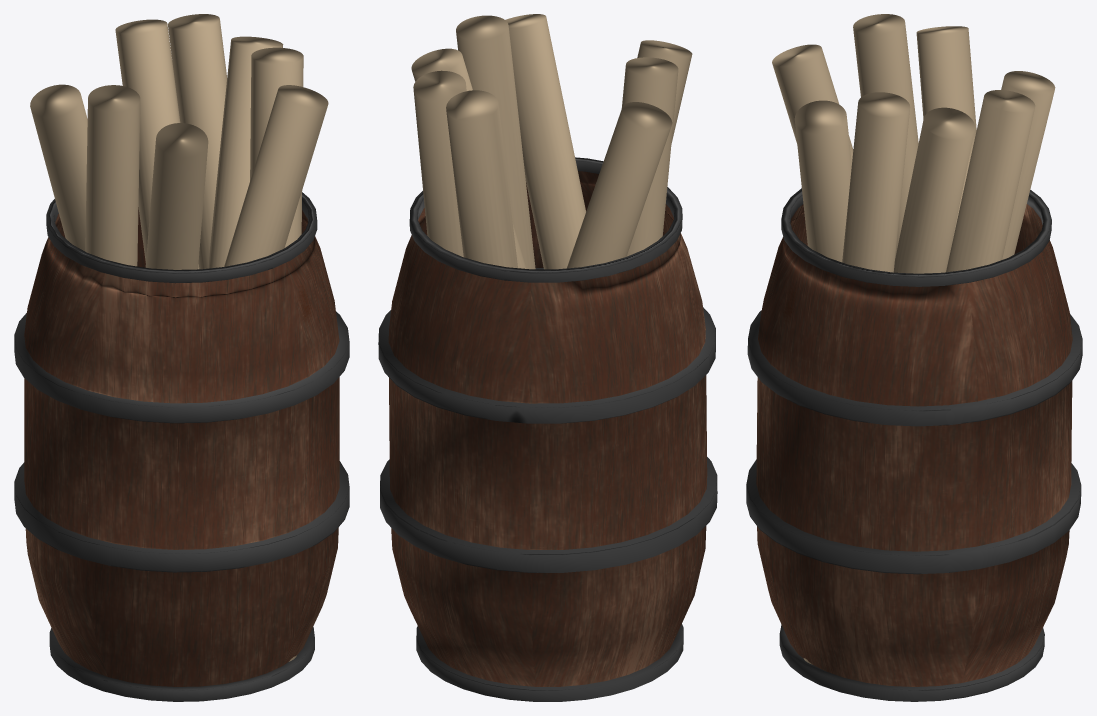
File: BAREL WITH MAPS.fbx
The picture shows the model from 3 angles, left to right: view 1: azimuth 30°, elevation 25°; view 2: azimuth 150°, elevation 25°; view 3: azimuth 270°, elevation 25°; orthographic projection.
Visible parts, largest first — view 1: Cylinder.003, Cylinder.011, Cylinder.010, Cylinder.008, Cylinder.012, Cylinder.006, Cylinder.005, Cylinder.009, Cylinder.007; view 2: Cylinder.003, Cylinder.011, Cylinder.006, Cylinder.009, Cylinder.007, Cylinder.012, Cylinder.010, Cylinder.005, Cylinder.008; view 3: Cylinder.003, Cylinder.012, Cylinder.007, Cylinder.005, Cylinder.011, Cylinder.010, Cylinder.009, Cylinder.006, Cylinder.008.
Boxes of the visible parts, bbox=[...] form: Cylinder.003: bbox=[14, 192, 349, 701]; Cylinder.011: bbox=[224, 85, 328, 266]; Cylinder.010: bbox=[85, 85, 140, 266]; Cylinder.008: bbox=[145, 123, 208, 269]; Cylinder.012: bbox=[168, 14, 226, 269]; Cylinder.006: bbox=[115, 19, 199, 269]; Cylinder.005: bbox=[208, 36, 283, 268]; Cylinder.009: bbox=[30, 84, 87, 251]; Cylinder.007: bbox=[250, 47, 303, 661]; Cylinder.003: bbox=[378, 157, 717, 701]; Cylinder.011: bbox=[505, 14, 585, 269]; Cylinder.006: bbox=[446, 90, 517, 268]; Cylinder.009: bbox=[567, 102, 672, 268]; Cylinder.007: bbox=[456, 15, 535, 269]; Cylinder.012: bbox=[413, 70, 466, 257]; Cylinder.010: bbox=[621, 57, 678, 256]; Cylinder.005: bbox=[411, 48, 526, 268]; Cylinder.008: bbox=[637, 40, 692, 144]; Cylinder.003: bbox=[746, 188, 1082, 701]; Cylinder.012: bbox=[946, 90, 1035, 272]; Cylinder.007: bbox=[803, 92, 910, 664]; Cylinder.005: bbox=[893, 107, 974, 273]; Cylinder.011: bbox=[794, 100, 851, 262]; Cylinder.010: bbox=[853, 14, 918, 258]; Cylinder.009: bbox=[916, 26, 976, 266]; Cylinder.006: bbox=[1001, 71, 1055, 259]; Cylinder.008: bbox=[772, 44, 853, 163].
Bounding box in the file's own units: 213 × 412 × 214.
